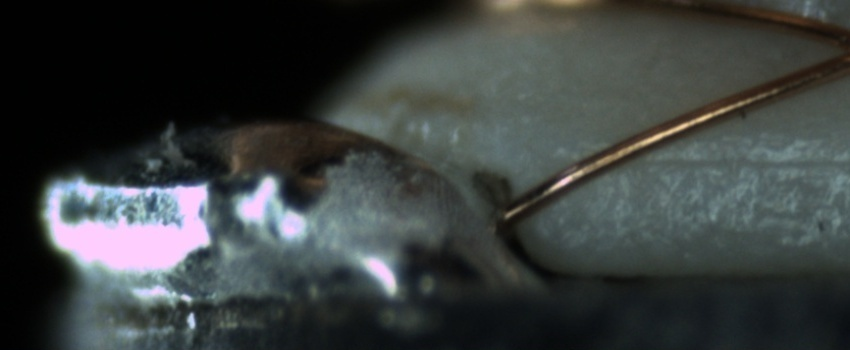CL: (827, 25, 850, 73)
DL: (628, 129, 849, 189)
